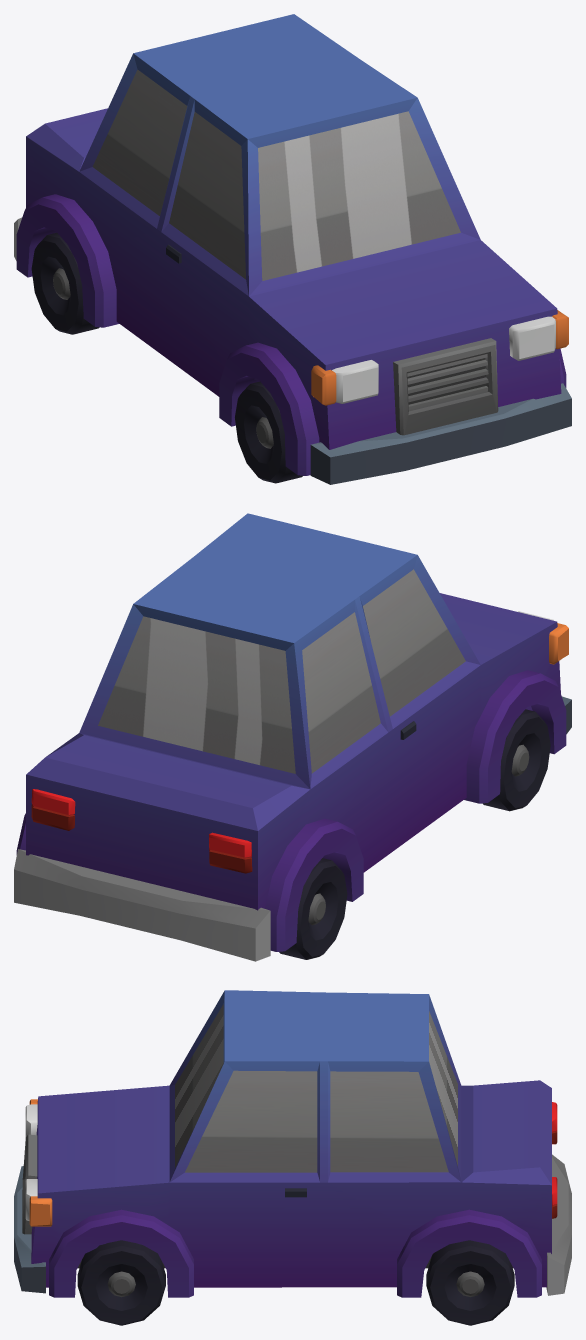
File: Car_2_2.glb
3 views of the same model, one above another, from view 1: azimuth 30°, elevation 25°; view 2: azimuth 150°, elevation 25°; view 3: azimuth 270°, elevation 25° (orthographic). The views are drawn at different scales.
Parts seen in each view (by area): view 1: Car_2_2, W_BR, W_FR; view 2: Car_2_2, W_FR, W_BR; view 3: Car_2_2, W_BL, W_FL.
Boxes of the visible parts, bbox=[...] form: Car_2_2: bbox=[14, 14, 571, 484]; W_BR: bbox=[31, 232, 99, 334]; W_FR: bbox=[235, 381, 302, 483]; Car_2_2: bbox=[14, 513, 571, 961]; W_FR: bbox=[482, 709, 550, 811]; W_BR: bbox=[279, 858, 347, 959]; Car_2_2: bbox=[14, 990, 571, 1297]; W_BL: bbox=[426, 1240, 514, 1325]; W_FL: bbox=[77, 1240, 165, 1325].
Bounding box in the file's own units: 1.09 × 1.11 × 2.28.
5 materials, 5 textured.
